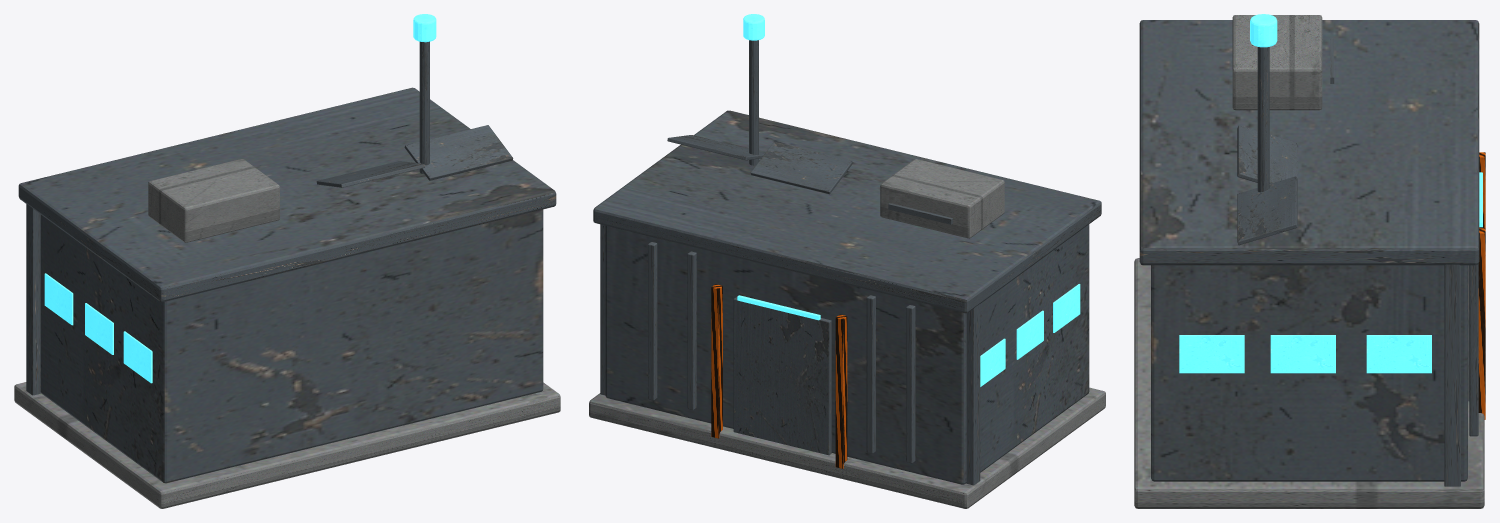
The model's file is field_outpost.glb.
The picture shows the model from 3 angles, left to right: view 1: azimuth 30°, elevation 25°; view 2: azimuth 150°, elevation 25°; view 3: azimuth 270°, elevation 25°; orthographic projection. The views are drawn at different scales.
Parts seen in each view (by area): view 1: OutpostHull, OutpostRoof, OutpostFoundation, OutpostHVAC, OutpostSolarPanel_0.32, OutpostCorner_-3.46, OutpostMast, OutpostSolarPanel_-0.32, OutpostSideWindow_-3.46-1.18, OutpostSideWindow_-3.461.28, OutpostSideWindow_-3.460.08, OutpostBeacon; view 2: OutpostHull, OutpostRoof, OutpostDoorRecess, OutpostFoundation, OutpostHVAC, OutpostSolarPanel_-0.32, OutpostCorner_-3.46, OutpostDoorJamb_-1.18, OutpostDoorJamb_1.18, OutpostFacadeRib_1.7, OutpostFacadeRib_2.45, OutpostFacadeRib_-1.7 (+7 smaller); view 3: OutpostRoof, OutpostHull, OutpostFoundation, OutpostHVAC, OutpostCorner_3.46, OutpostSolarPanel_0.32, OutpostSideWindow_3.461.28, OutpostSideWindow_3.46-1.18, OutpostSideWindow_3.460.08, OutpostSolarPanel_-0.32, OutpostMast, OutpostFacadeRib_2.45 (+2 smaller).
Boxes of the visible parts, x1=… form: OutpostHull: x1=40, y1=209, x2=543, y2=483; OutpostRoof: x1=18, y1=87, x2=556, y2=301; OutpostFoundation: x1=14, y1=382, x2=560, y2=508; OutpostHVAC: x1=148, y1=159, x2=279, y2=242; OutpostSolarPanel_0.32: x1=404, y1=125, x2=513, y2=180; OutpostCorner_-3.46: x1=26, y1=204, x2=41, y2=395; OutpostMast: x1=419, y1=41, x2=429, y2=173; OutpostSolarPanel_-0.32: x1=316, y1=161, x2=424, y2=187; OutpostSideWindow_-3.46-1.18: x1=44, y1=273, x2=73, y2=325; OutpostSideWindow_-3.461.28: x1=123, y1=331, x2=152, y2=383; OutpostSideWindow_-3.460.08: x1=85, y1=303, x2=113, y2=354; OutpostBeacon: x1=413, y1=14, x2=436, y2=42; OutpostHull: x1=605, y1=224, x2=1089, y2=484; OutpostRoof: x1=593, y1=110, x2=1101, y2=313; OutpostDoorRecess: x1=733, y1=297, x2=831, y2=455; OutpostFoundation: x1=589, y1=387, x2=1105, y2=508; OutpostHVAC: x1=880, y1=159, x2=1004, y2=238; OutpostSolarPanel_-0.32: x1=750, y1=141, x2=853, y2=194; OutpostCorner_-3.46: x1=966, y1=304, x2=980, y2=485; OutpostDoorJamb_-1.18: x1=835, y1=314, x2=847, y2=468; OutpostDoorJamb_1.18: x1=711, y1=284, x2=722, y2=438; OutpostFacadeRib_1.7: x1=687, y1=251, x2=696, y2=409; OutpostFacadeRib_2.45: x1=648, y1=242, x2=657, y2=400; OutpostFacadeRib_-1.7: x1=866, y1=295, x2=875, y2=453; OutpostRoof: x1=1139, y1=20, x2=1479, y2=265; OutpostHull: x1=1151, y1=265, x2=1467, y2=481; OutpostFoundation: x1=1134, y1=258, x2=1484, y2=508; OutpostHVAC: x1=1232, y1=15, x2=1322, y2=110; OutpostCorner_3.46: x1=1444, y1=264, x2=1460, y2=486; OutpostSolarPanel_0.32: x1=1237, y1=176, x2=1297, y2=245; OutpostSideWindow_3.461.28: x1=1179, y1=335, x2=1244, y2=373; OutpostSideWindow_3.46-1.18: x1=1366, y1=335, x2=1431, y2=373; OutpostSideWindow_3.460.08: x1=1270, y1=335, x2=1335, y2=373; OutpostSolarPanel_-0.32: x1=1237, y1=125, x2=1297, y2=183; OutpostMast: x1=1257, y1=47, x2=1269, y2=192; OutpostFacadeRib_2.45: x1=1469, y1=264, x2=1478, y2=436.
Size of the model in its own units: 7.2 by 6.43 by 4.61.
5 materials, 5 textured.
